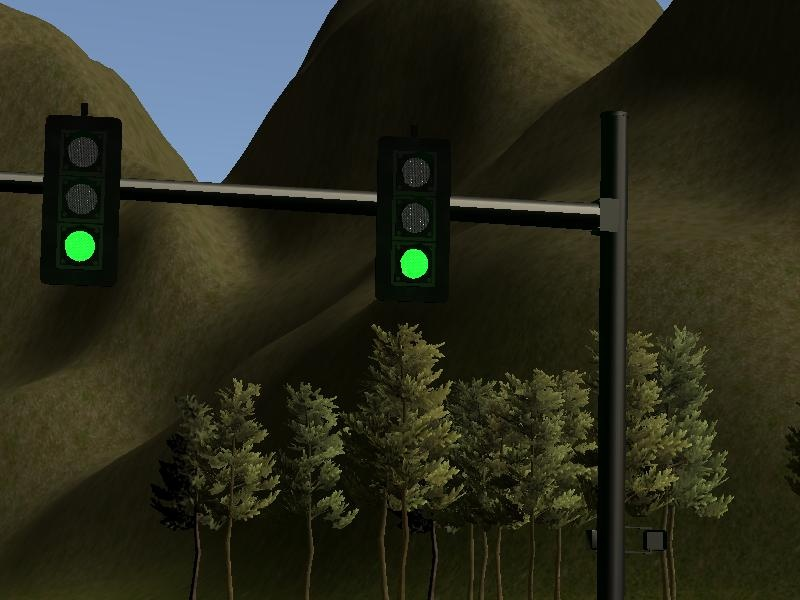GREEN: (39, 114, 120, 288), (376, 147, 446, 295)
